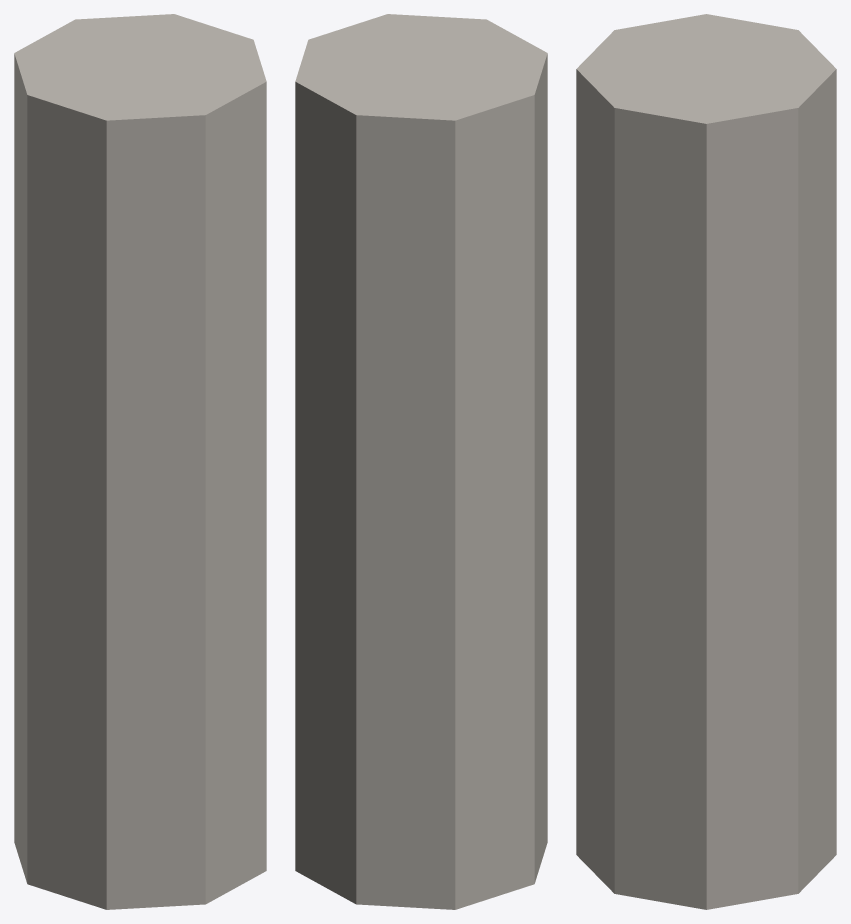
Rendered from Pole1a.obj.
The picture shows the model from 3 angles, left to right: view 1: azimuth 30°, elevation 25°; view 2: azimuth 150°, elevation 25°; view 3: azimuth 270°, elevation 25°; orthographic projection.
Parts seen in each view (by area): view 1: partMain; view 2: partMain; view 3: partMain.
Boxes of the visible parts, x1,y1,x2,y2 form: partMain: [14, 14, 266, 909]; partMain: [295, 14, 547, 909]; partMain: [576, 14, 836, 909].
Size of the model in its own units: 0.3 by 1 by 0.3.
Materials: 1 (1 with a texture image).
